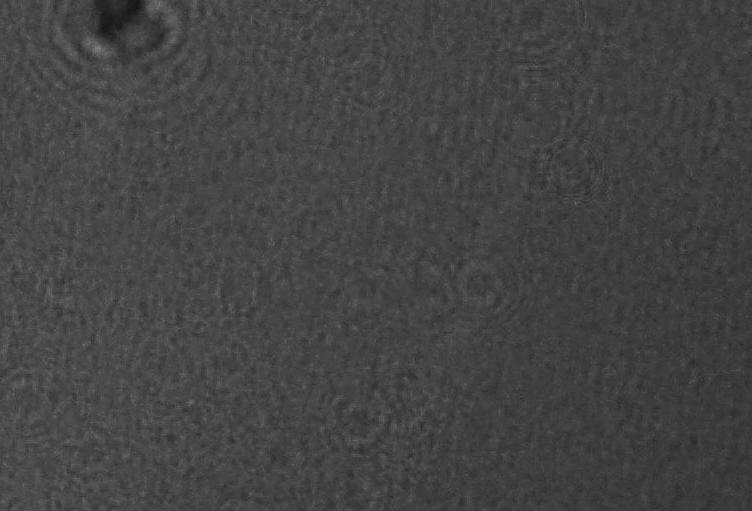bead: (474, 0, 596, 72), (305, 374, 400, 458)
